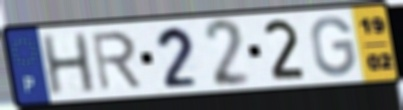2: (203, 15, 254, 93), (151, 22, 204, 92), (262, 18, 307, 81)
G: (309, 14, 358, 79)
H: (39, 30, 99, 97)
R: (89, 29, 145, 93)
